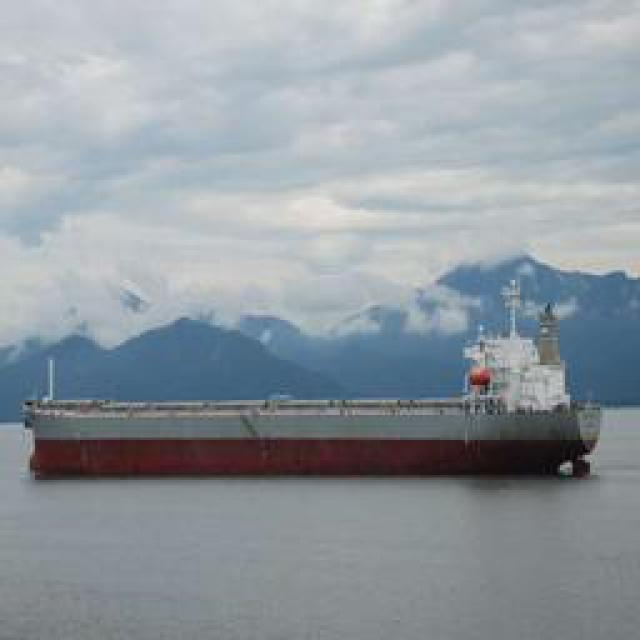Ship: (30, 376, 585, 481)
